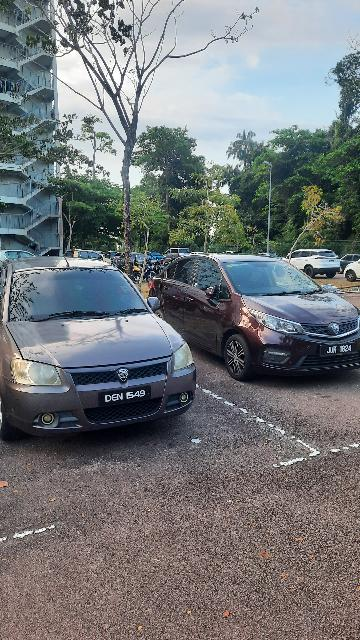License_Plate: (101, 385, 153, 406), (317, 341, 360, 360)
car: (1, 254, 199, 442), (147, 245, 360, 388)
